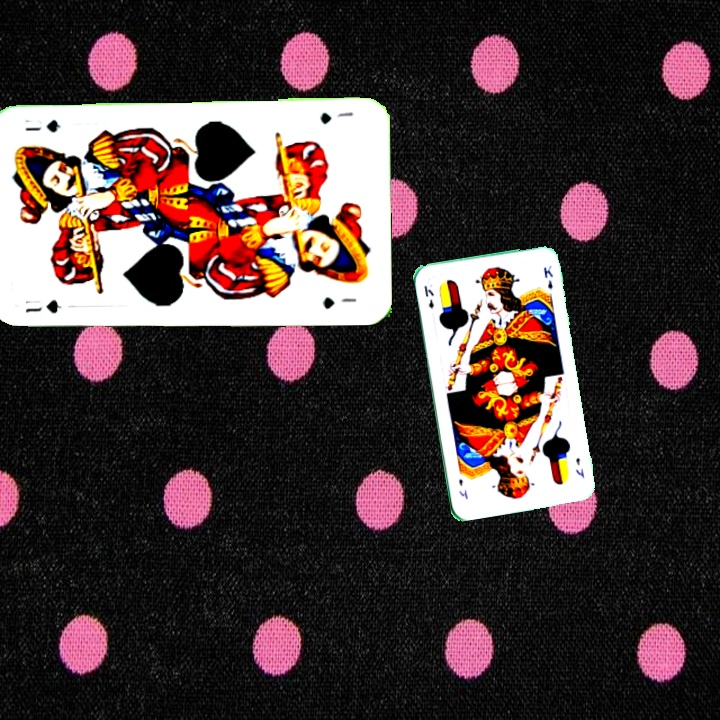EK: (420, 282, 437, 312), (571, 454, 587, 481)
GU: (20, 296, 63, 316), (316, 108, 355, 127)
